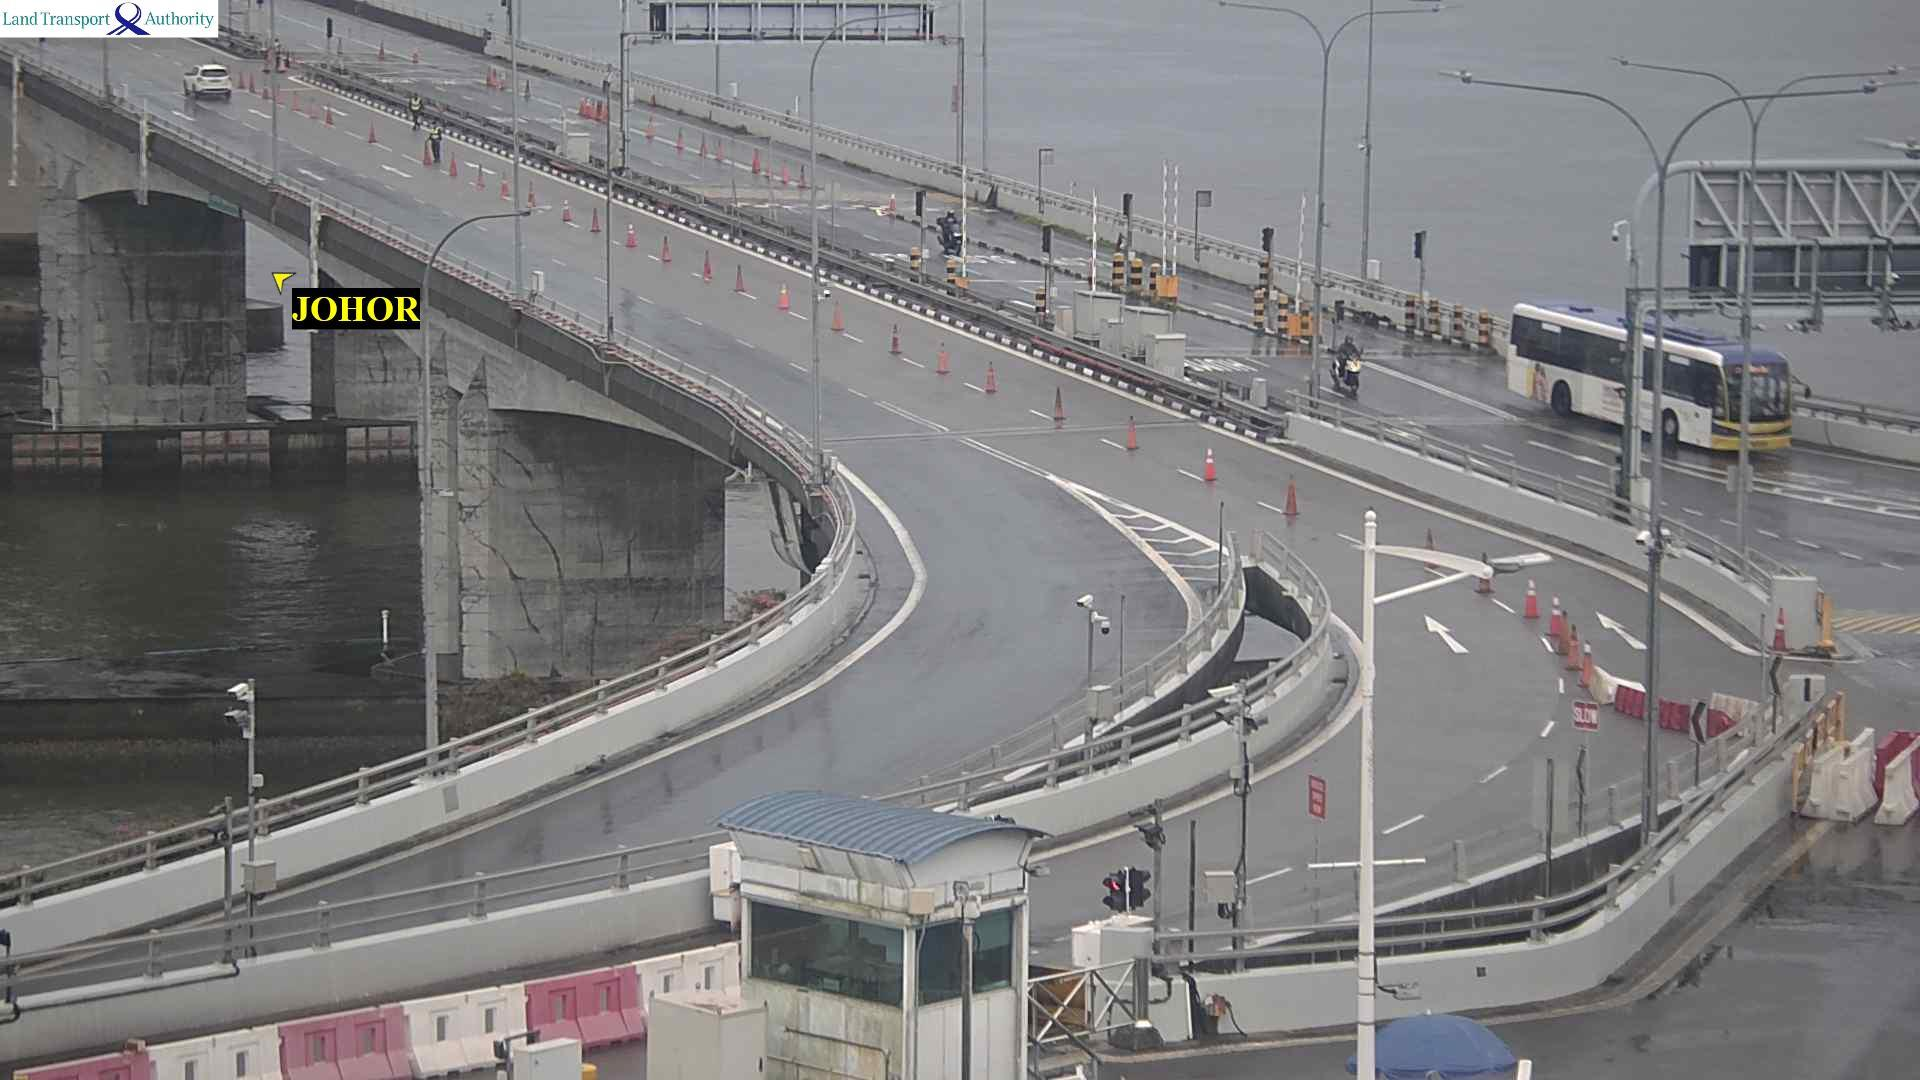vehicle-secondlink-johor: (187, 63, 235, 98)
vehicle-secondlink-singapore: (1528, 303, 1807, 460), (1697, 158, 1920, 334), (1873, 287, 1920, 331), (940, 214, 965, 251), (770, 166, 800, 190)
